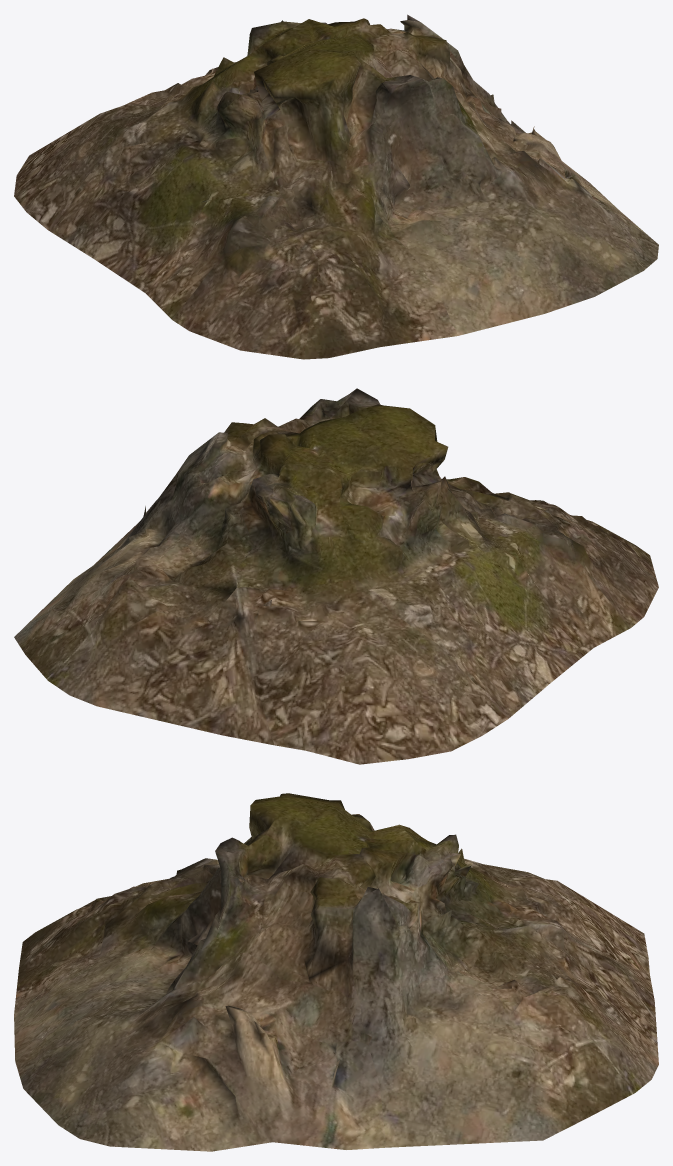
Rendered from scene-stump.glb.
3 renders of one model, top to bottom at view 1: azimuth 30°, elevation 25°; view 2: azimuth 150°, elevation 25°; view 3: azimuth 270°, elevation 25°, orthographic. The views are drawn at different scales.
Parts seen in each view (by area): view 1: tree_stump_01; view 2: tree_stump_01; view 3: tree_stump_01.
Boxes of the visible parts, bbox=[...] form: tree_stump_01: bbox=[14, 14, 658, 359]; tree_stump_01: bbox=[14, 388, 658, 764]; tree_stump_01: bbox=[14, 793, 658, 1151].
Size of the model in its own units: 1.43 by 0.571 by 1.59.
1 material, 1 textured.
